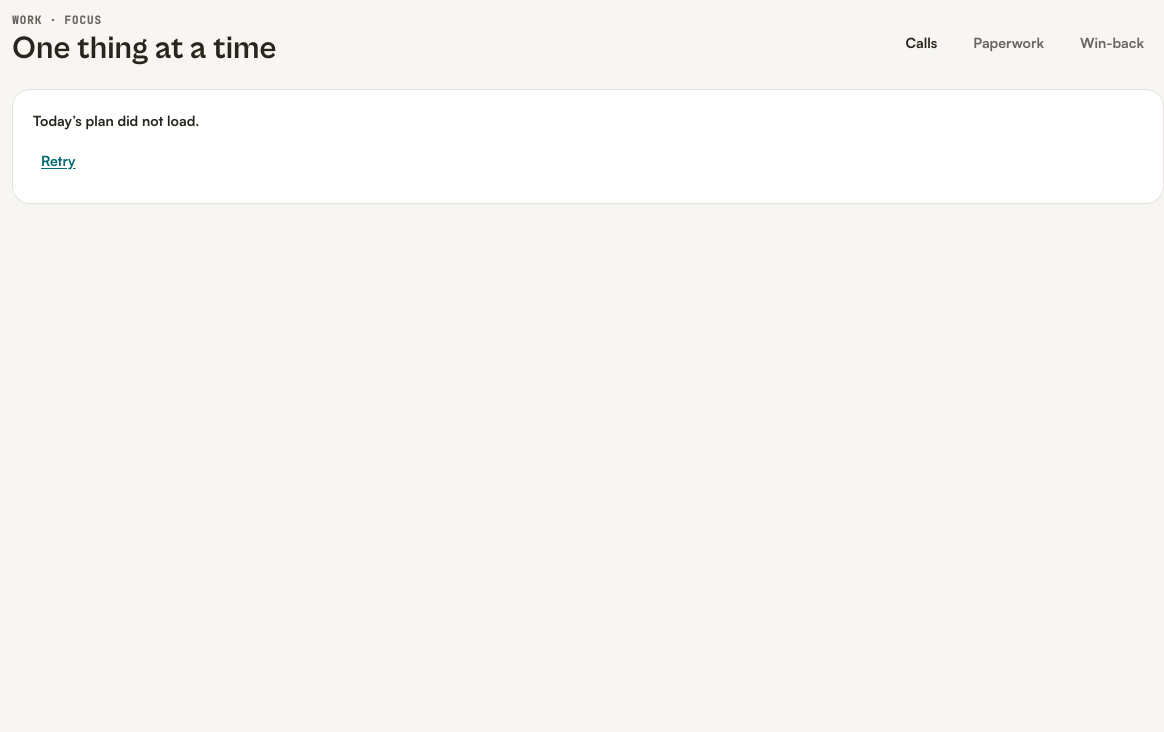
FrFocus › a failed read shows Retry, which reads again
What coordinates should you click on to do the following:
click the button "Retry"
I would click on:
 (58, 160)
Its box is [33, 138, 84, 182].
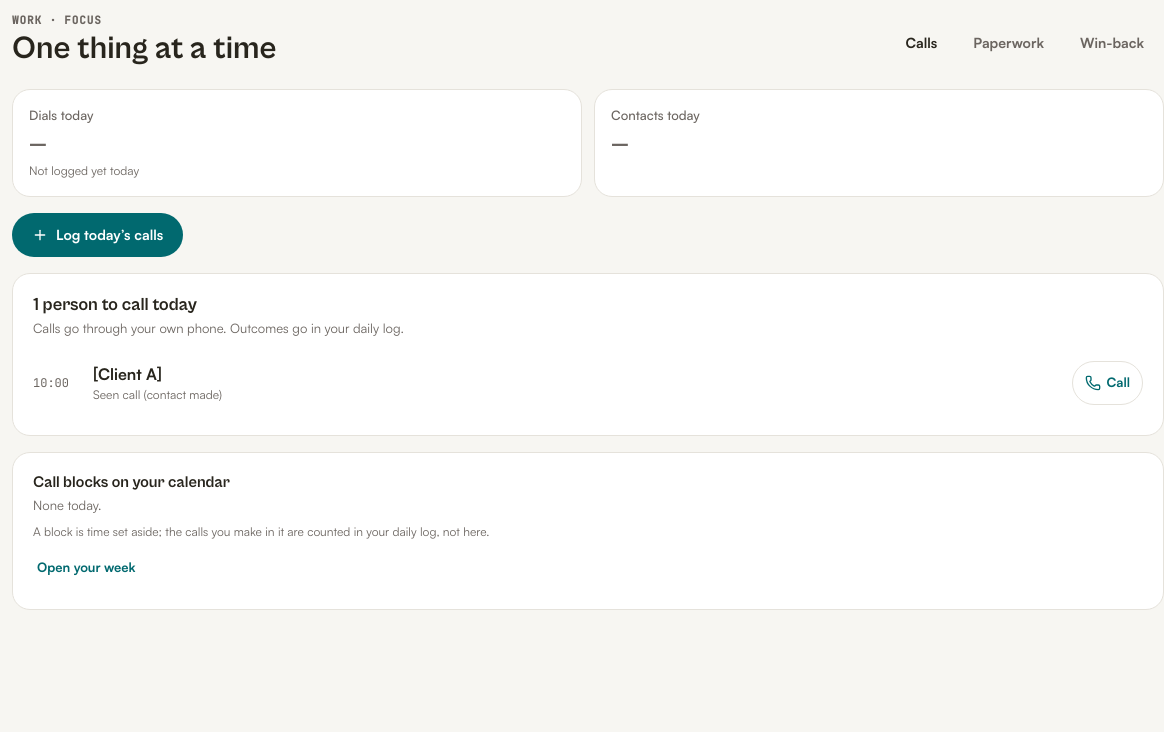
Now the link with aria-label "Call [Client A]" is shown, box [1072, 361, 1143, 405]
